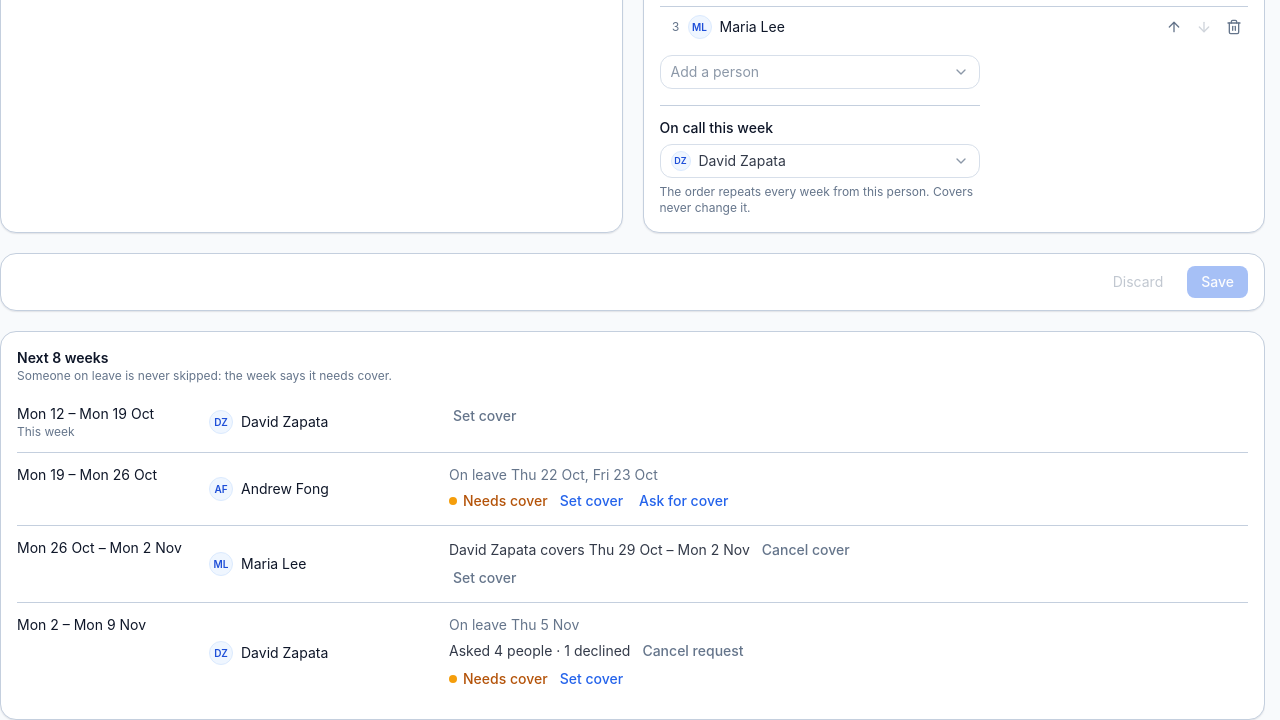
Test: Urgent response: On-call › a cover the server refuses (it overlaps another) shows the server’s words in the dialog
The width and height of the screenshot is (1280, 720).
(page scrolled)
Click the button with aria-label "Set cover for Andrew Fong" at coordinates (591, 501), box [556,489,627,513]
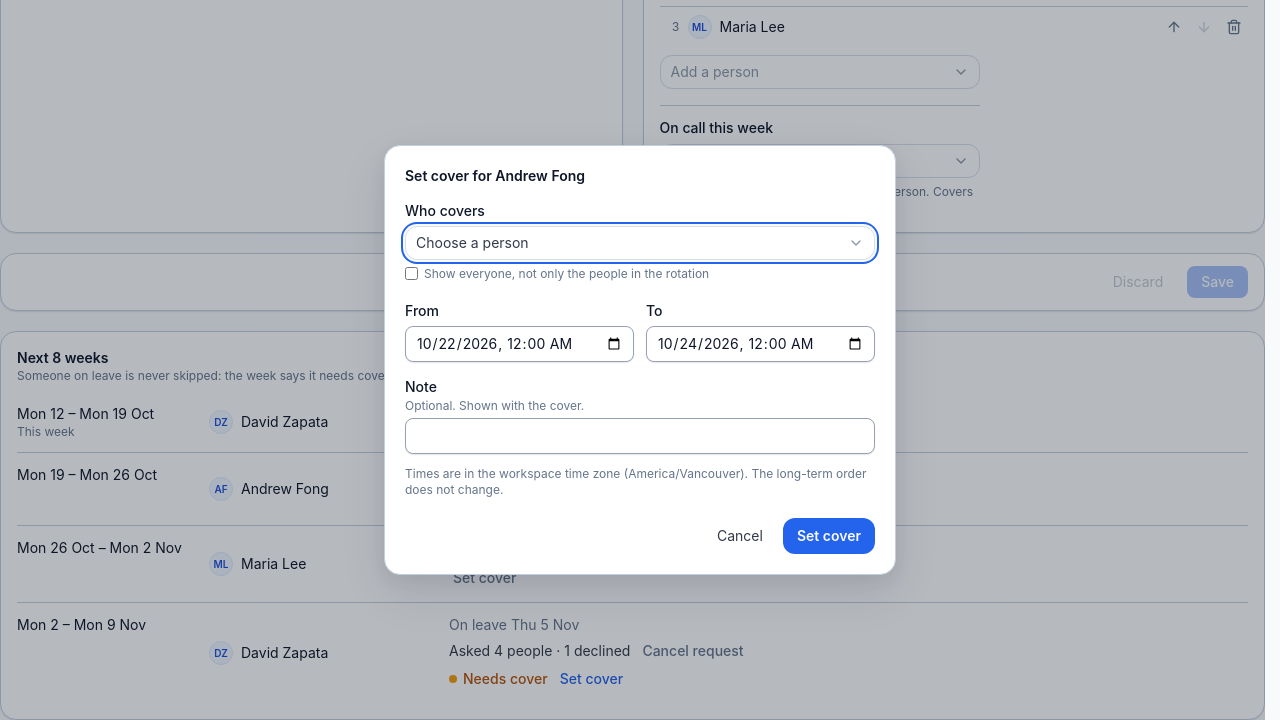
Click the dropdown named "Who covers" at coordinates (472, 242), box [405,226,875,260]
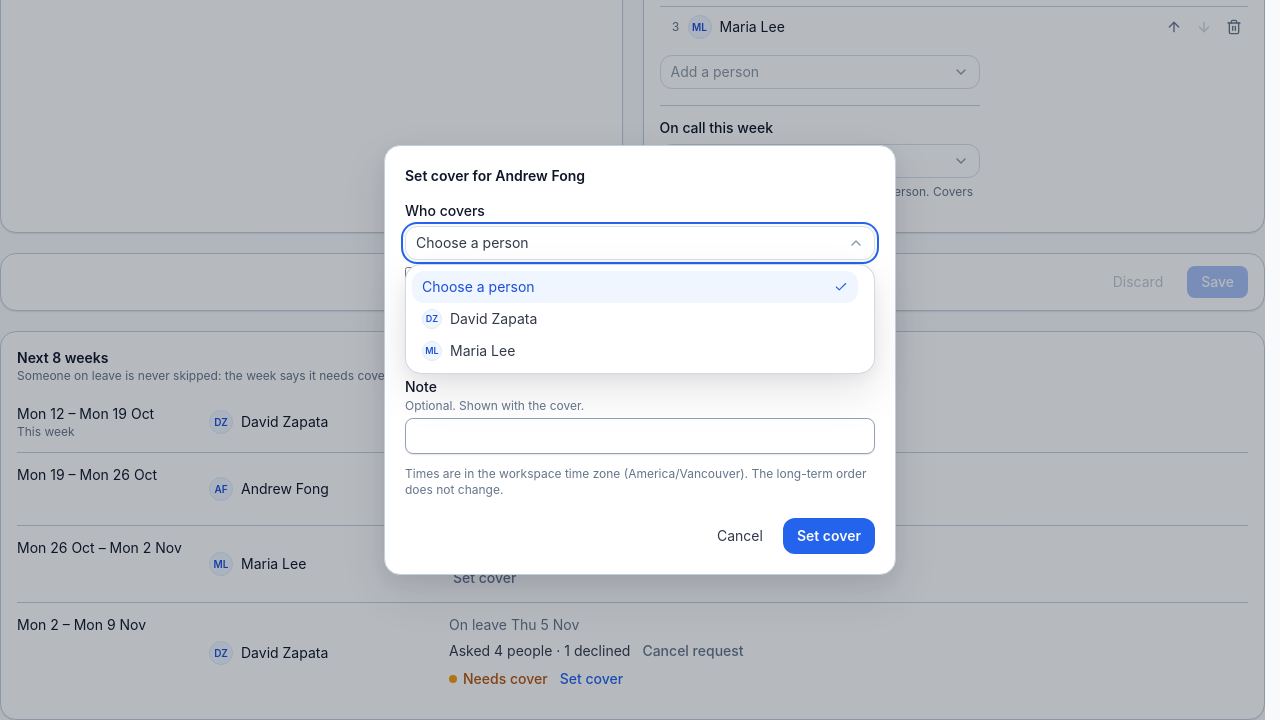
Click the option "ML Maria Lee" at coordinates (469, 351), box [422,341,515,361]
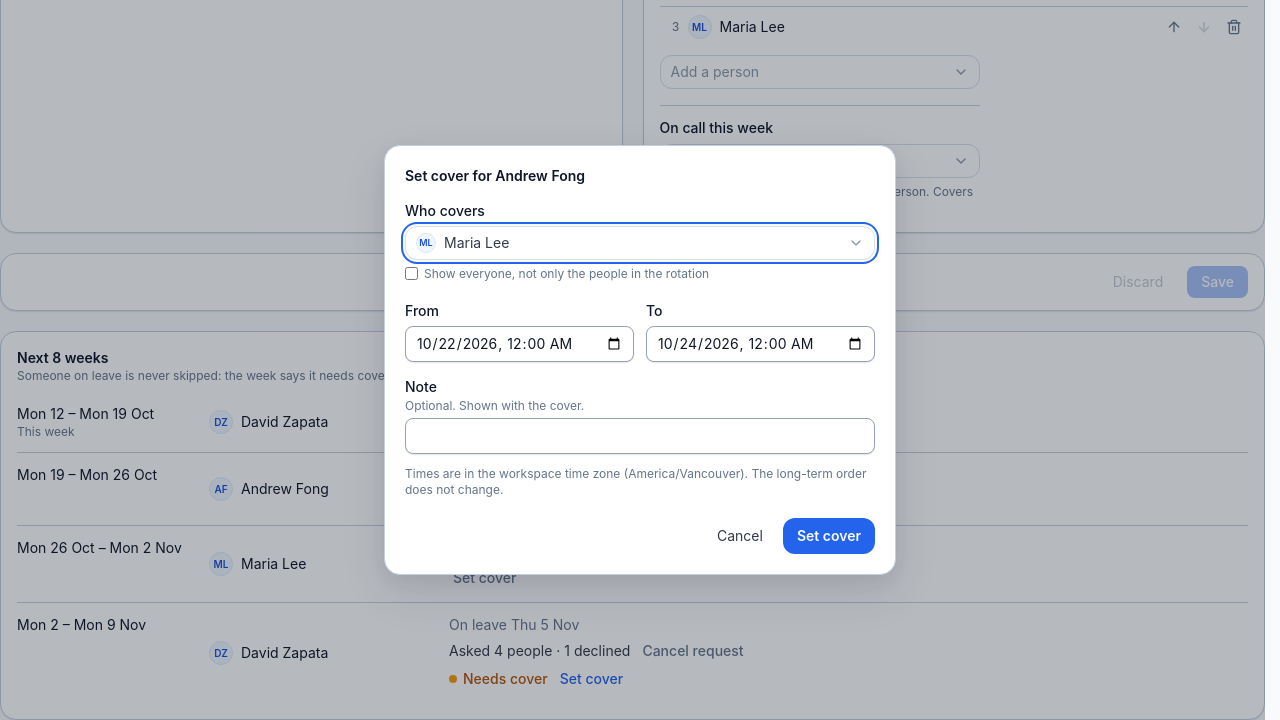
Click the button "Set cover" at coordinates (829, 536), box [783,518,875,554]
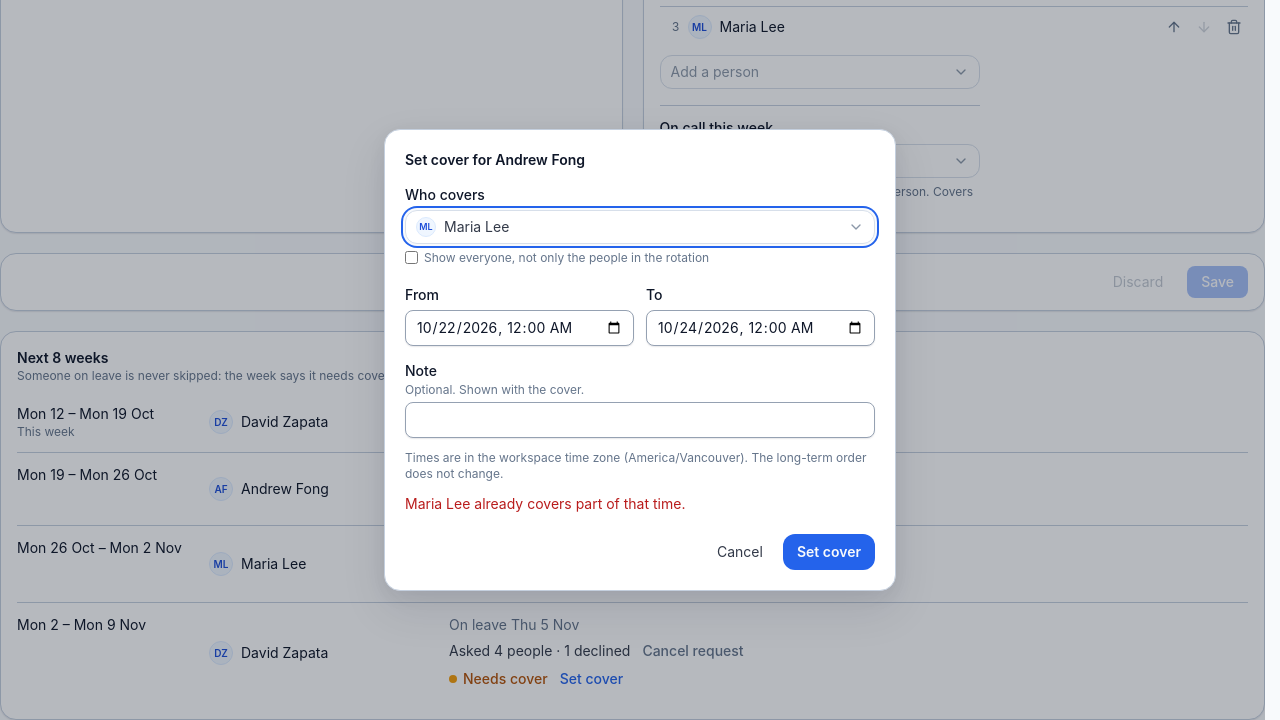
Now the dialog is shown, box [384,129,896,591]
Now the message reads "Maria Lee already covers part of that time.", box [405,495,685,512]
